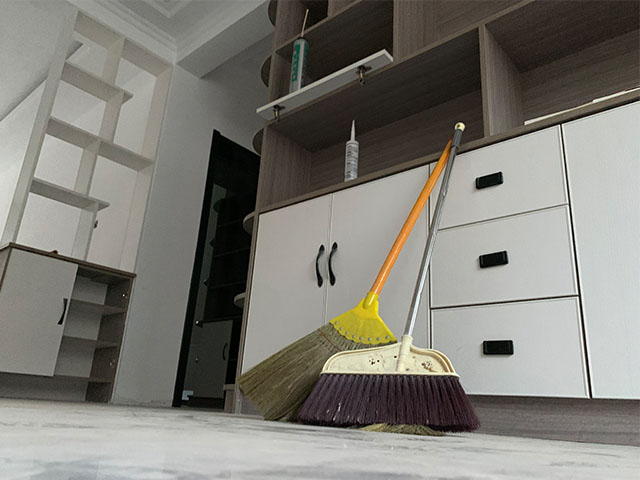cabinet: (235, 94, 640, 445), (1, 241, 137, 402)
